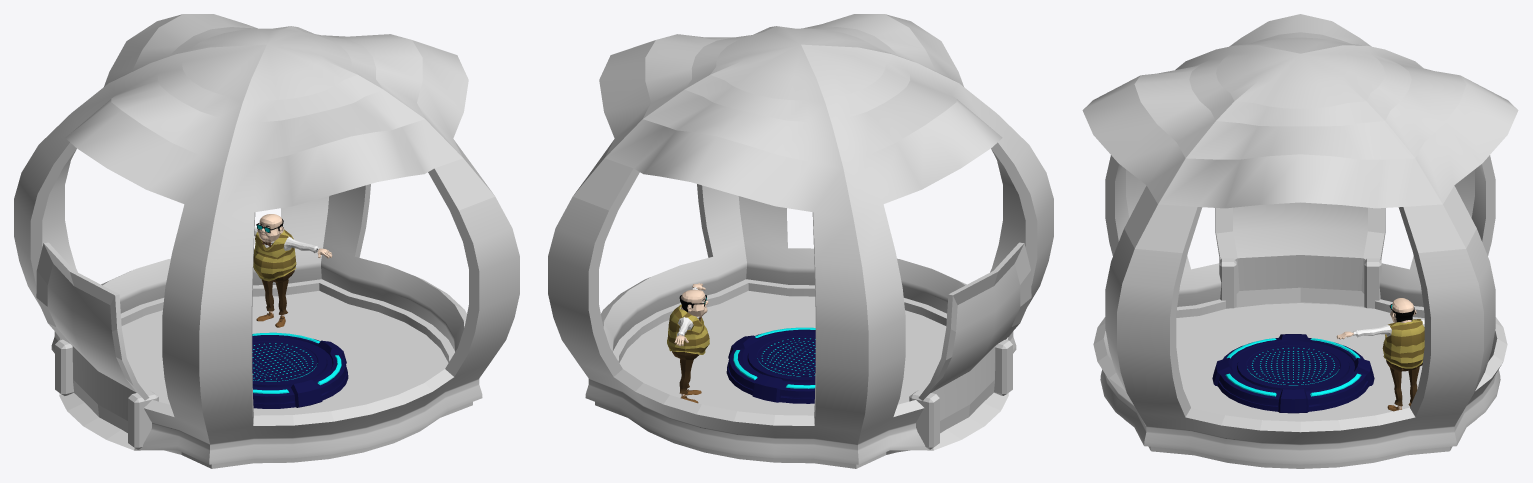
Rendered from newModel.glb.
3 renders of one model, left to right at view 1: azimuth 30°, elevation 25°; view 2: azimuth 150°, elevation 25°; view 3: azimuth 270°, elevation 25°, orthographic.
Parts seen in each view (by area): view 1: pCone3, pSphere5, polySurface2, polySurface22, pCube6, pCube1; view 2: pCone3, pSphere5, polySurface2, polySurface22, pCube1, pCube6; view 3: pCone3, pSphere5, polySurface2, polySurface22, pCube6, pCube1.
Part boxes in pixels (left/top/right/bottom): pCone3: left=14, top=14, right=519, bottom=468; pSphere5: left=36, top=242, right=149, bottom=432; polySurface2: left=252, top=332, right=348, bottom=408; polySurface22: left=253, top=214, right=332, bottom=327; pCube6: left=128, top=390, right=158, bottom=449; pCube1: left=55, top=339, right=73, bottom=395; pCone3: left=548, top=14, right=1053, bottom=468; pSphere5: left=918, top=242, right=1031, bottom=433; polySurface2: left=726, top=327, right=815, bottom=403; polySurface22: left=667, top=283, right=709, bottom=403; pCube1: left=909, top=390, right=939, bottom=449; pCube6: left=994, top=339, right=1012, bottom=395; pCone3: left=1082, top=14, right=1518, bottom=468; pSphere5: left=1215, top=202, right=1385, bottom=306; polySurface2: left=1212, top=334, right=1374, bottom=413; polySurface22: left=1336, top=298, right=1424, bottom=411; pCube6: left=1219, top=258, right=1236, bottom=308; pCube1: left=1364, top=258, right=1381, bottom=308.
Bounding box in the file's own units: 4.15 × 3.45 × 4.08.
